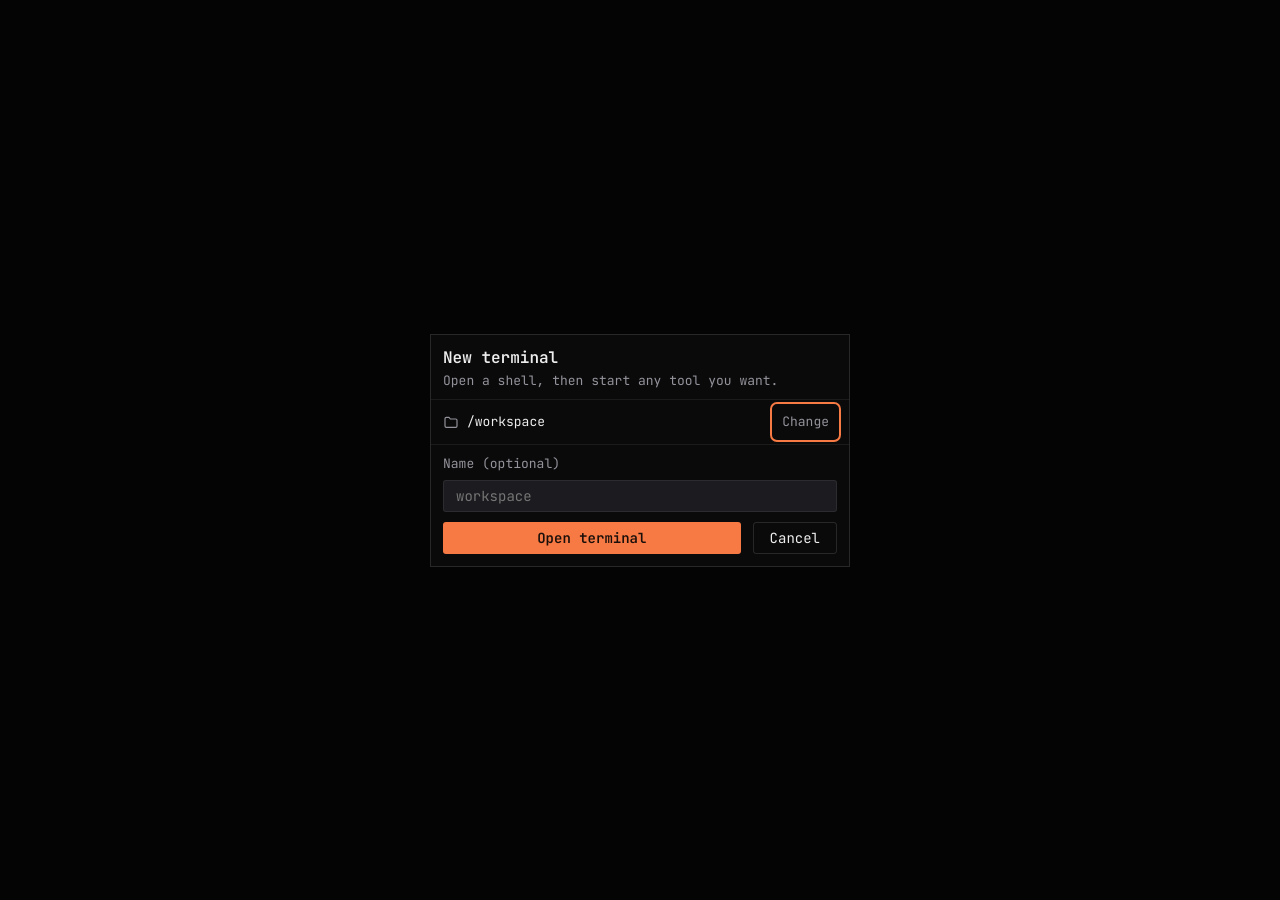
NewSessionWizard terminal-first flow › shows creation failures and leaves the draft retryable
Step 1. Type "Keep me" into the field named "terminal name" → (640, 496), box [443,480,837,512]
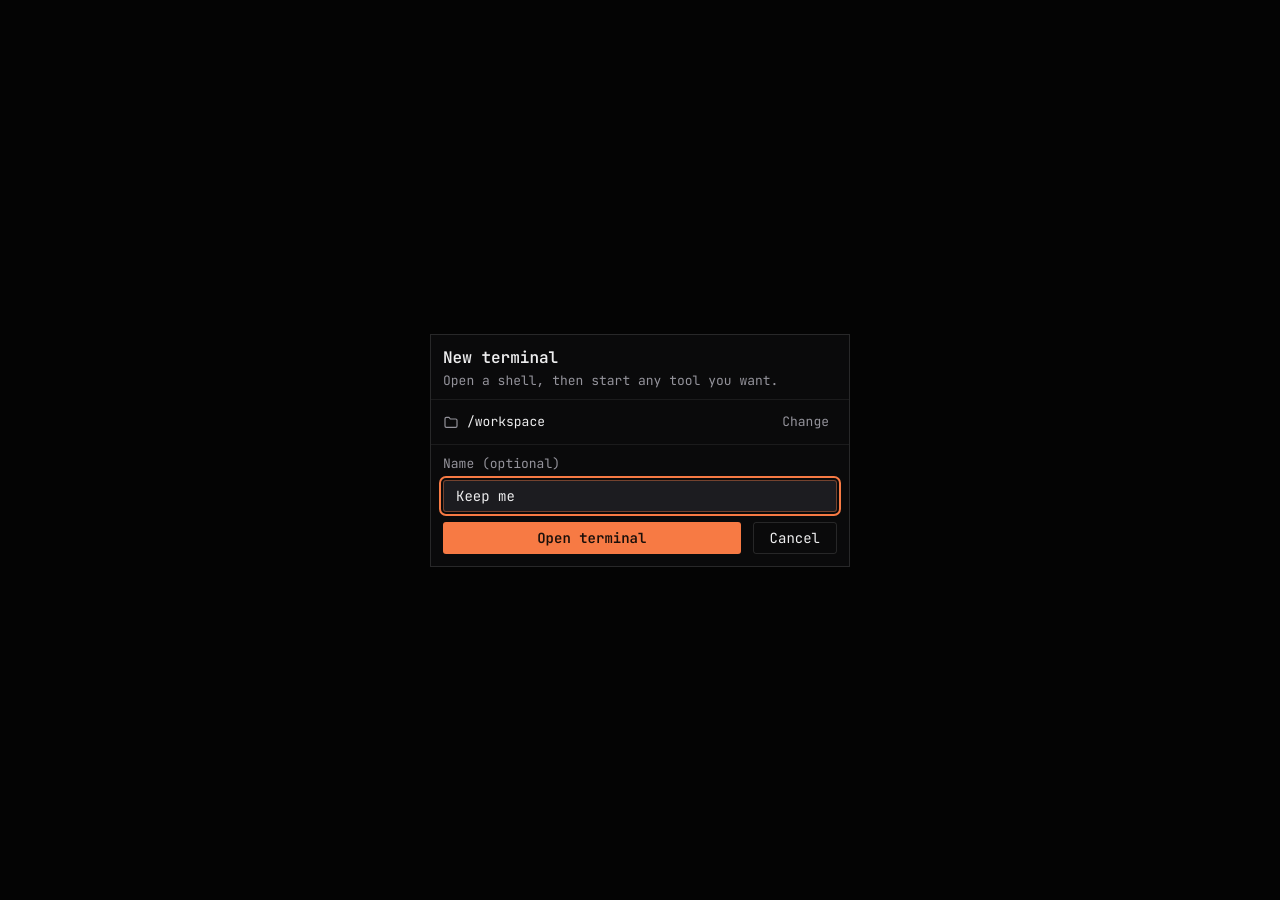
Step 2. Click the button "Open terminal" → (592, 538), box [443,522,741,554]
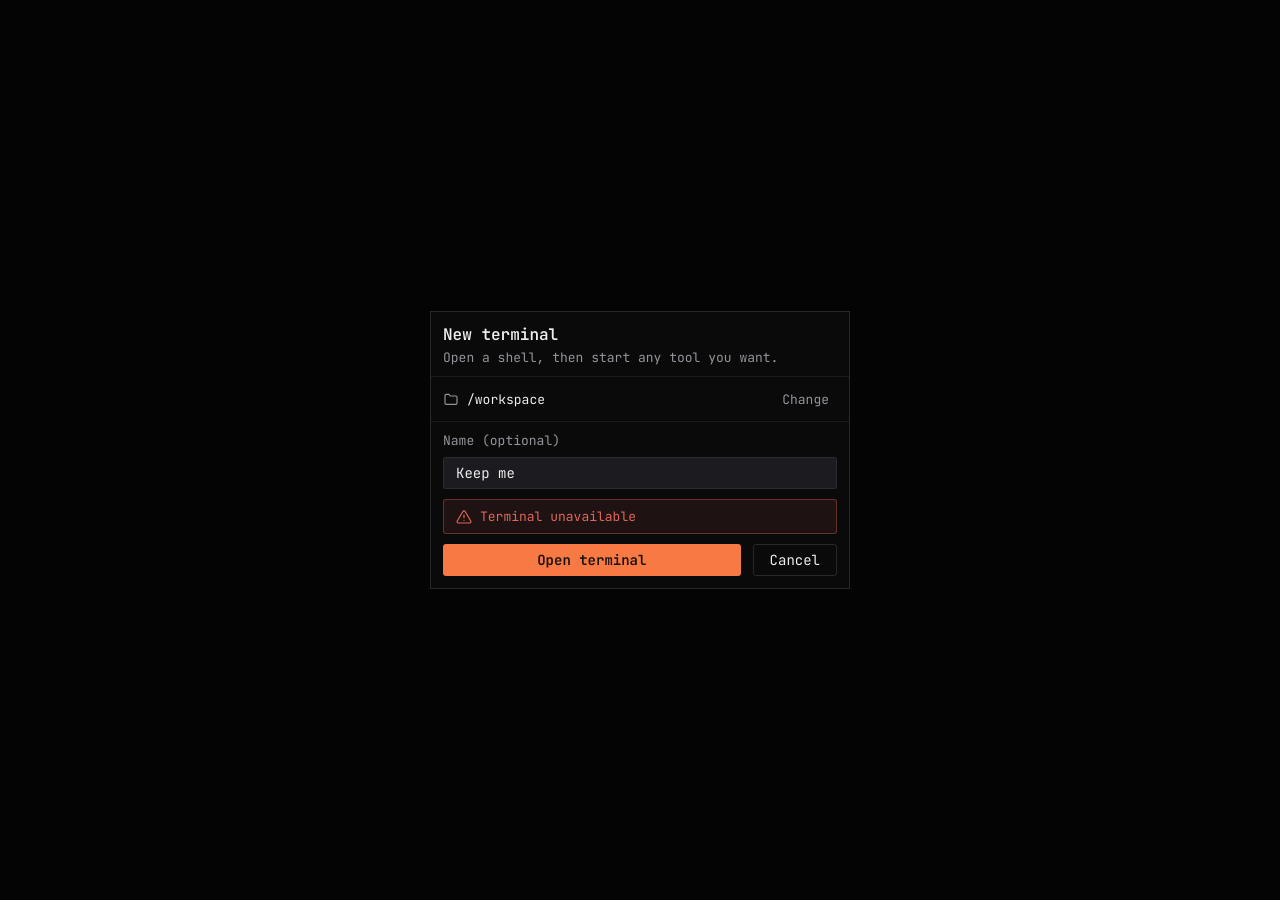
Check: the button "Open terminal" is enabled, box [443,544,741,576]
Check: the message reads "Terminal unavailable", box [480,508,636,525]
